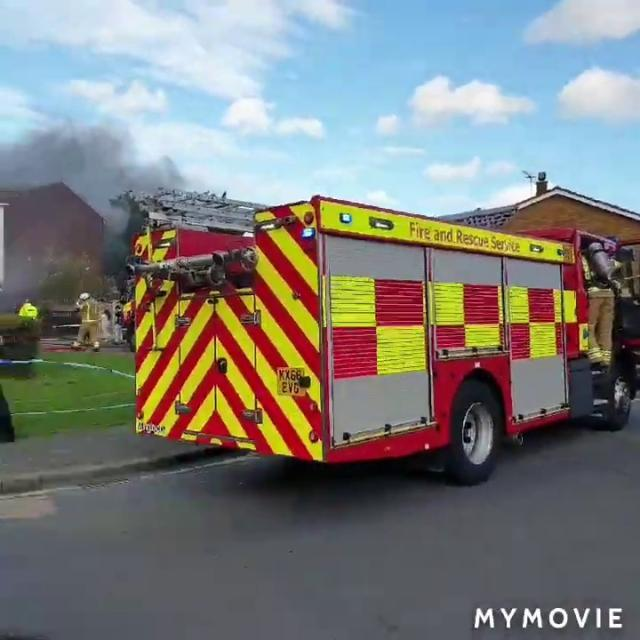Smoke: (0, 94, 180, 214)
